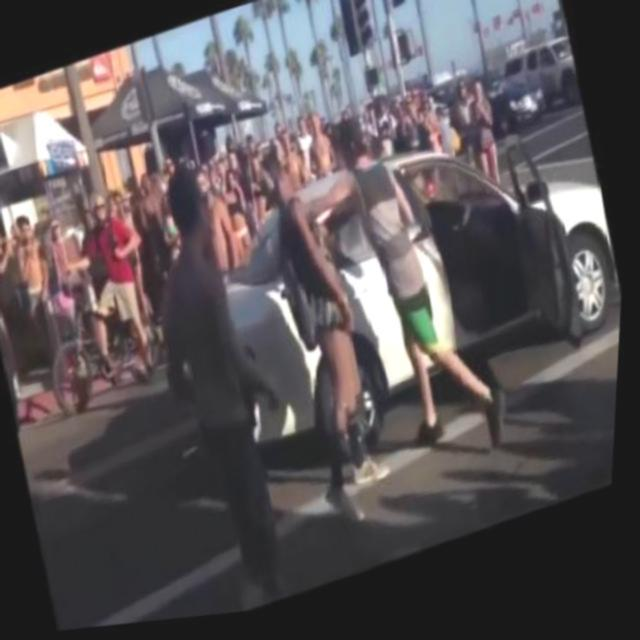fight: (240, 106, 494, 526)
